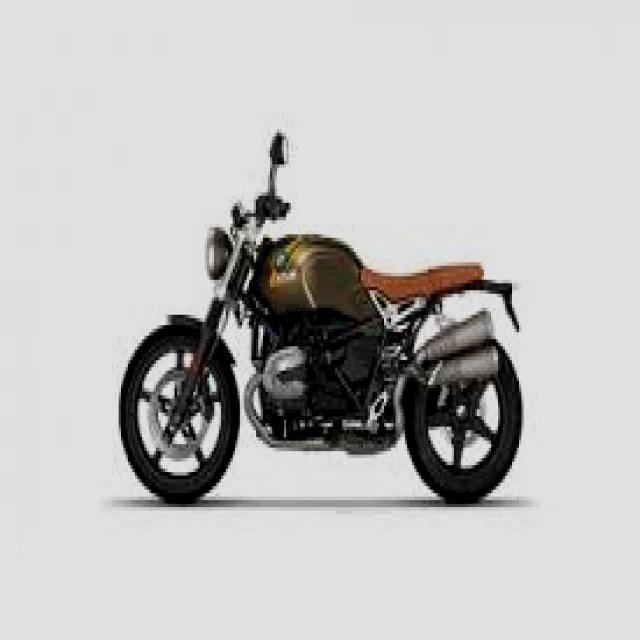MOTORCYCLE: (120, 201, 527, 509)
